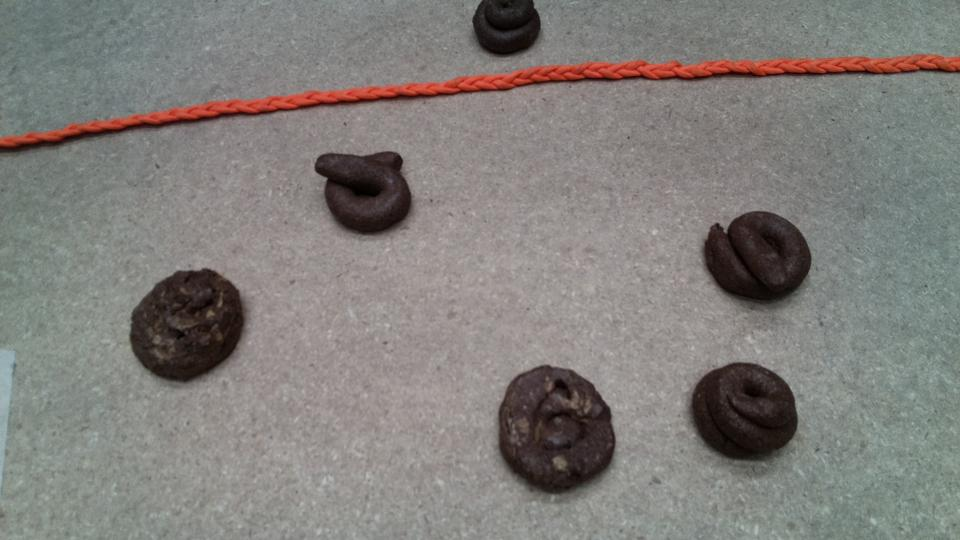poop: (492, 362, 628, 503), (679, 355, 813, 470), (131, 264, 250, 389), (701, 210, 821, 308), (314, 148, 418, 245), (474, 2, 547, 59)
rope: (159, 81, 443, 131), (638, 48, 960, 92), (421, 60, 677, 103), (2, 102, 166, 168)
